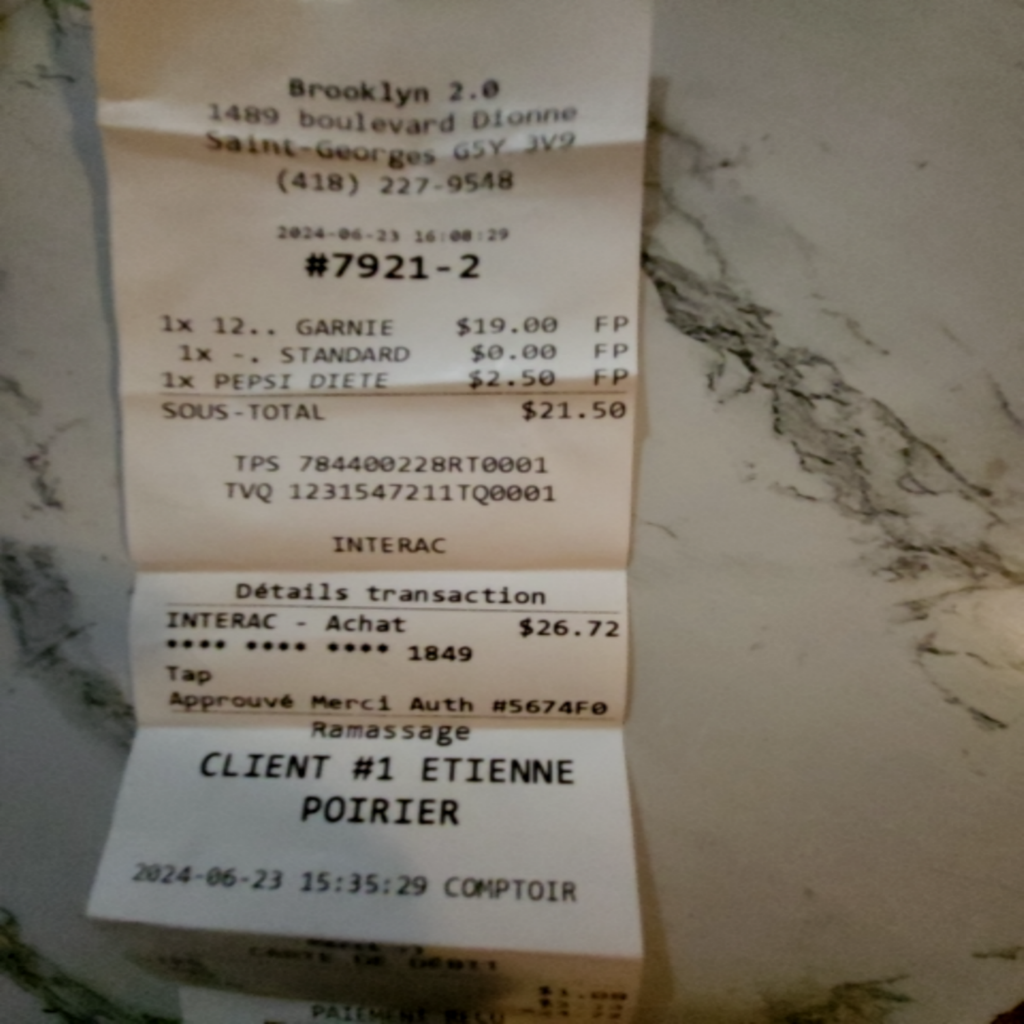recipt: (86, 0, 661, 1022)
